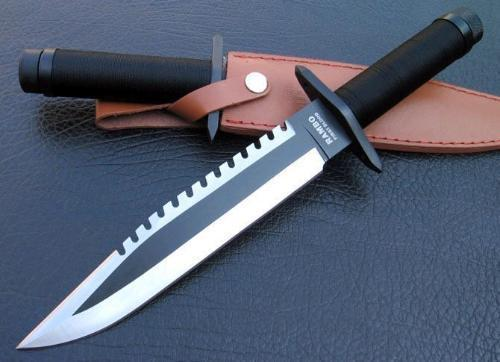knife: (10, 8, 497, 352)
